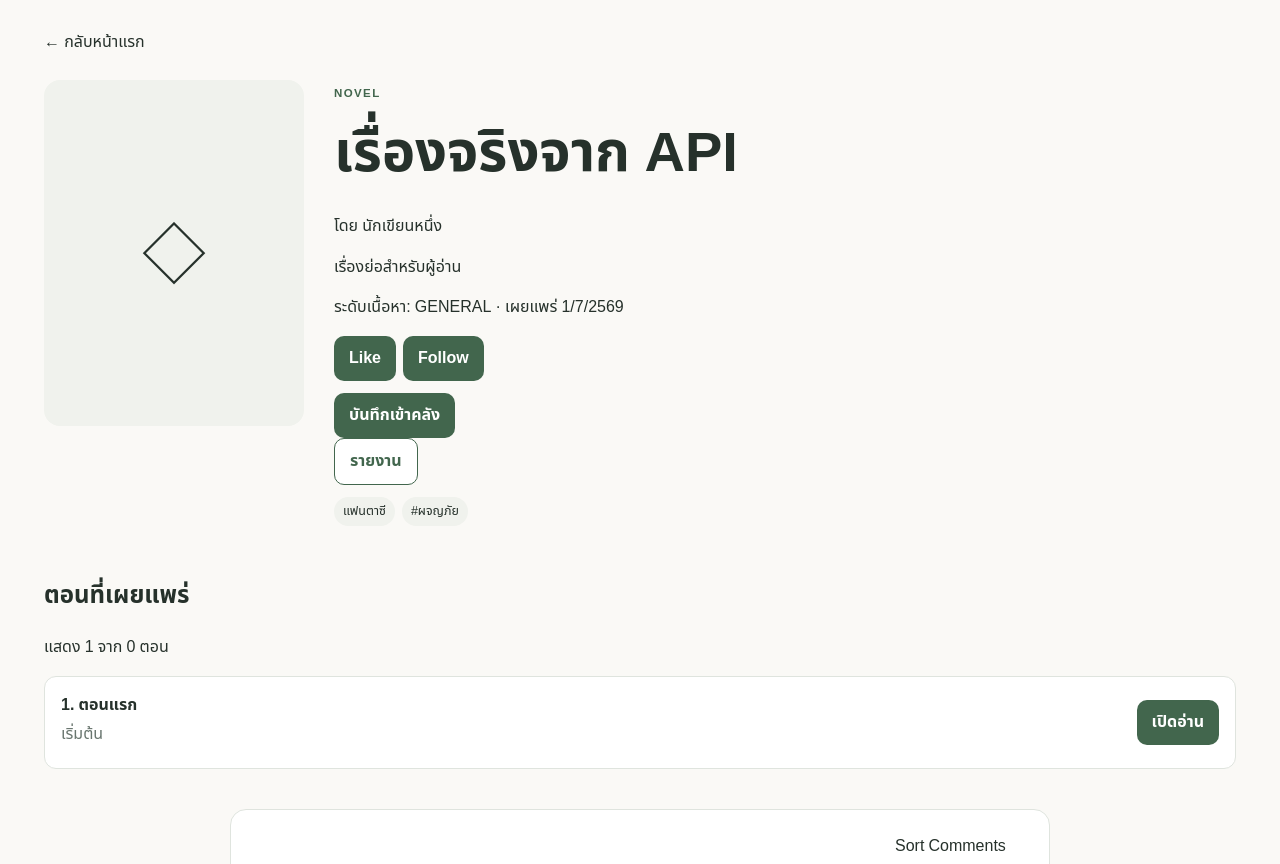
public Story Detail › conceals self-follow after the documented 400 response
Click the button "Follow" at x=443, y=359, box [403, 336, 484, 381]
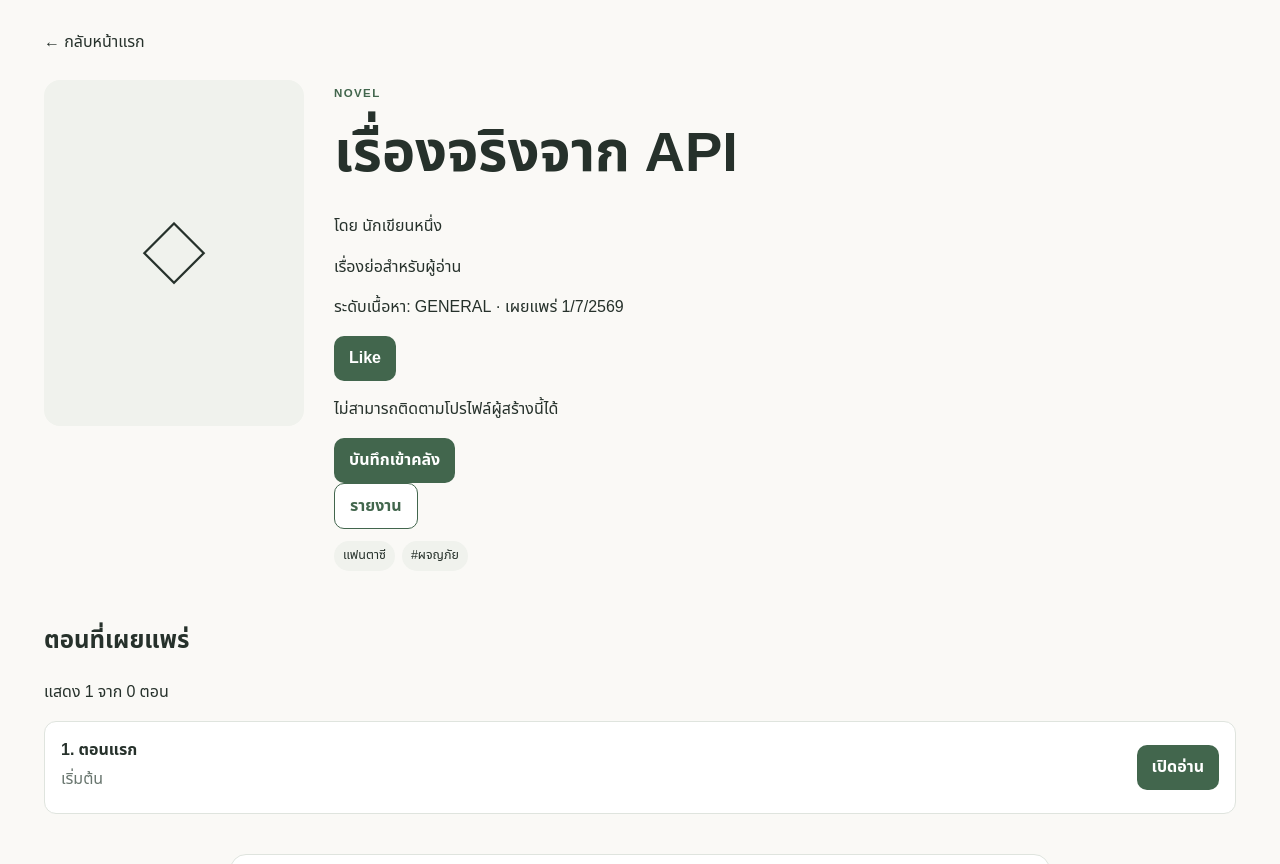
Result: the text "ไม่สามารถติดตามโปรไฟล์ผู้สร้างนี้ได้" is shown at [334, 397, 558, 421]
Result: the button "Follow" is gone
